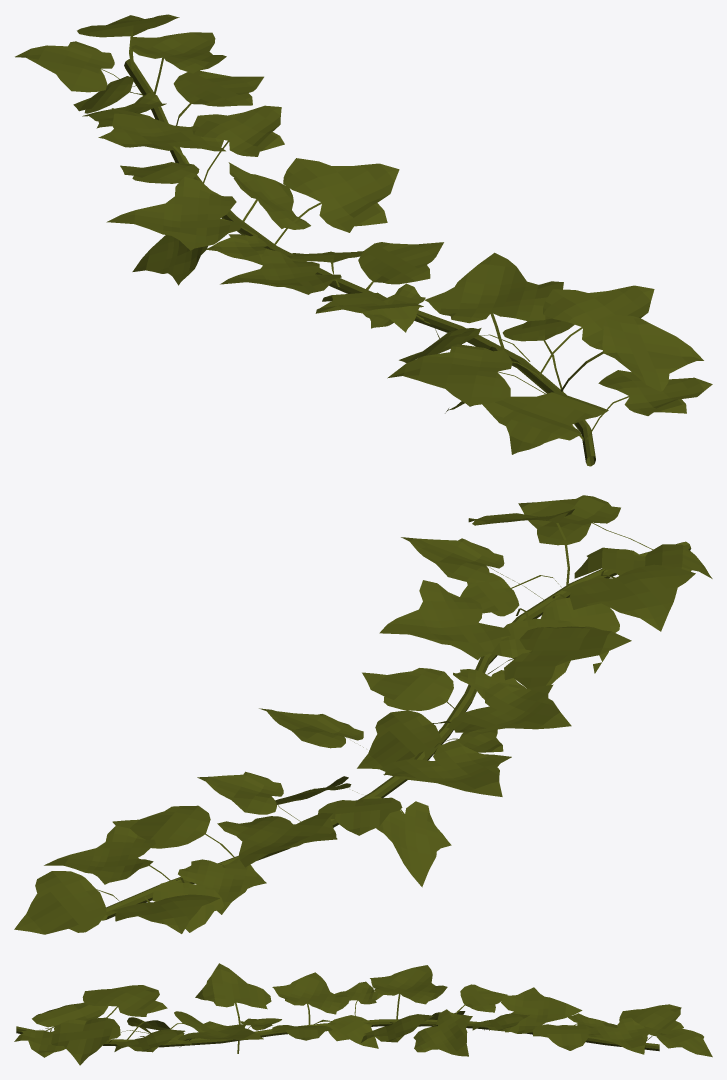
Rendered from ivySplited.fbx.
3 renders of one model, top to bottom at view 1: azimuth 30°, elevation 25°; view 2: azimuth 150°, elevation 25°; view 3: azimuth 270°, elevation 25°, orthographic. The views are drawn at different scales.
Parts seen in each view (by area): view 1: 5d1ae7b5be2c2177040312.066, 5d1ae7b5be2c2177040312.070; view 2: 5d1ae7b5be2c2177040312.066, 5d1ae7b5be2c2177040312.070; view 3: 5d1ae7b5be2c2177040312.066, 5d1ae7b5be2c2177040312.070.
Part boxes in pixels (left/top/right/bottom): 5d1ae7b5be2c2177040312.066: left=15, top=14, right=712, bottom=454; 5d1ae7b5be2c2177040312.070: left=124, top=59, right=595, bottom=466; 5d1ae7b5be2c2177040312.066: left=14, top=495, right=712, bottom=934; 5d1ae7b5be2c2177040312.070: left=102, top=541, right=691, bottom=920; 5d1ae7b5be2c2177040312.066: left=14, top=963, right=712, bottom=1065; 5d1ae7b5be2c2177040312.070: left=16, top=1019, right=659, bottom=1051.
Size of the model in its own units: 87.53 by 29.27 by 265.
